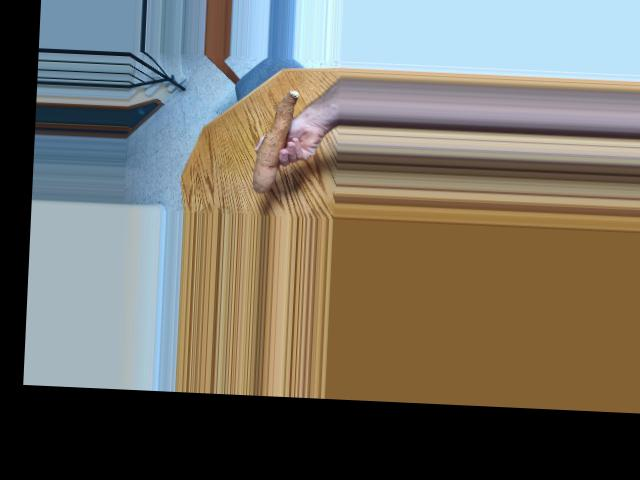sweet_potato: (247, 89, 309, 190)
